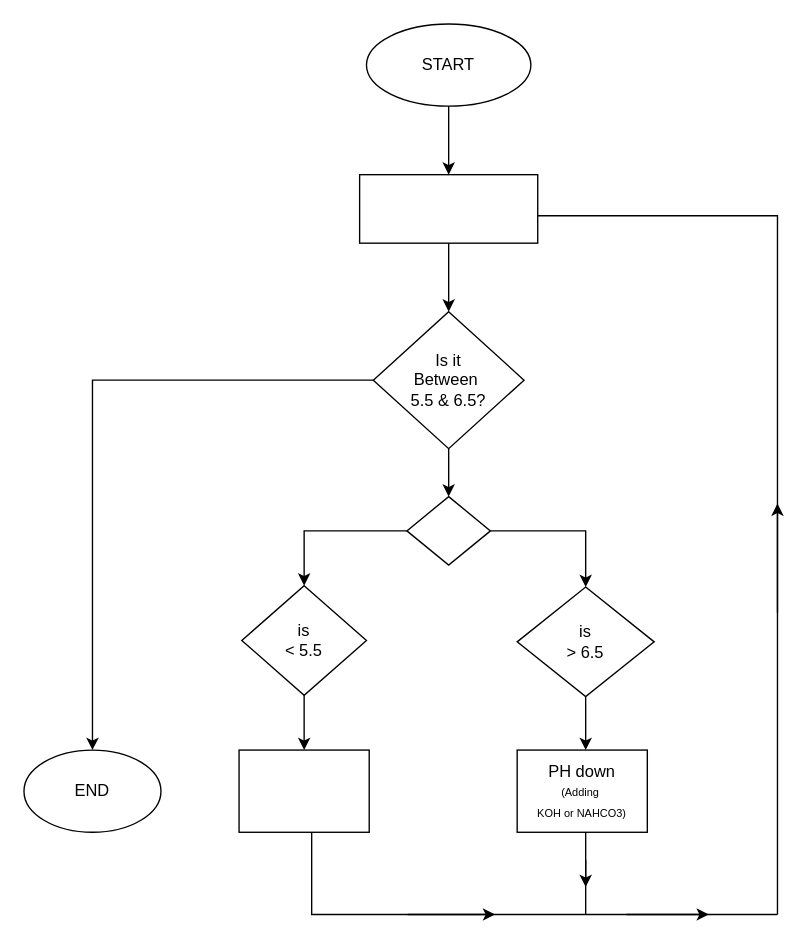
Image size: 812x949. Some labels were removed from this diagram. The shapes that lost their labels are listed below. From the top down, each one's box as (x1, y1, x2, y2) in pixels, then its label:
(358, 173, 538, 243): Check the PH level
(406, 495, 490, 565): NO
(238, 749, 369, 832): PH up ( Adding H3PO4 or H2SO4)
